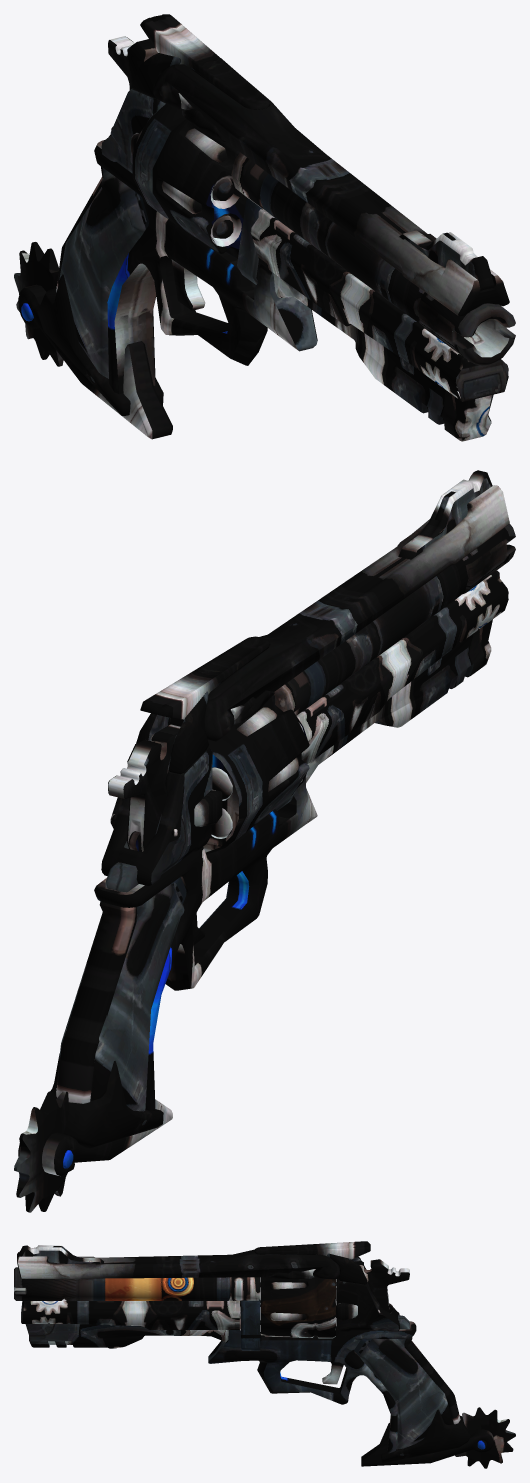
Rendered from mccree_weapon.obj.
The picture shows the model from 3 angles, top to bottom: view 1: azimuth 30°, elevation 25°; view 2: azimuth 150°, elevation 25°; view 3: azimuth 270°, elevation 25°; orthographic projection. The views are drawn at different scales.
Visible parts, largest first — view 1: Mesh_0753_Untitled.001, Mesh_0752_Untitled.005; view 2: Mesh_0753_Untitled.001; view 3: Mesh_0753_Untitled.001.
Boxes of the visible parts, x1,y1,x2,y2 form: Mesh_0753_Untitled.001: [14, 14, 515, 441]; Mesh_0752_Untitled.005: [212, 178, 234, 238]; Mesh_0753_Untitled.001: [14, 470, 515, 1212]; Mesh_0753_Untitled.001: [14, 1241, 515, 1468].
Size of the model in its own units: 0.2229 by 0.8057 by 1.63.
